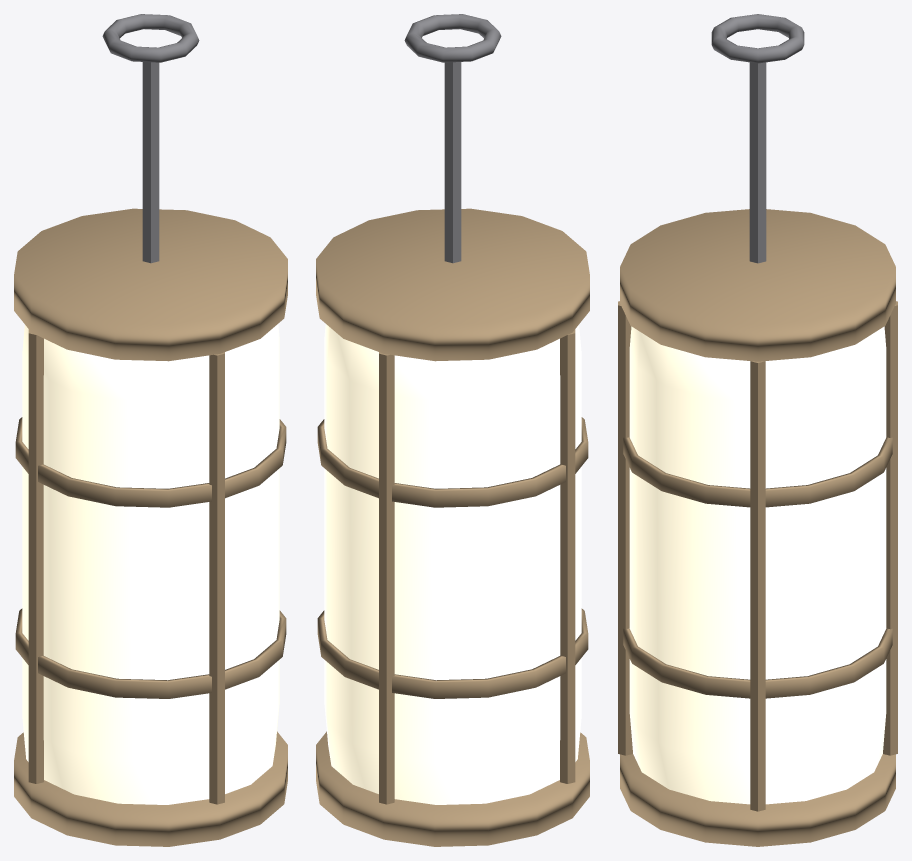
The model's file is korean-hanok-village-and-street-hanging-paper-lantern-539f8e2b__38069.glb.
3 views of the same model, side by side, from view 1: azimuth 30°, elevation 25°; view 2: azimuth 150°, elevation 25°; view 3: azimuth 270°, elevation 25° (orthographic).
Visible parts, largest first — view 1: lantern/paper, lantern/wood, hanging-paper-lantern; view 2: lantern/paper, lantern/wood, hanging-paper-lantern; view 3: lantern/paper, lantern/wood, hanging-paper-lantern.
Part boxes in pixels (box(x1,y1,x2,y2)): lantern/paper: box(22, 324, 279, 804); lantern/wood: box(14, 208, 287, 846); hanging-paper-lantern: box(102, 14, 199, 263); lantern/paper: box(324, 324, 581, 804); lantern/wood: box(316, 208, 589, 846); hanging-paper-lantern: box(404, 14, 501, 263); lantern/paper: box(629, 326, 886, 804); lantern/wood: box(618, 209, 897, 846); hanging-paper-lantern: box(711, 14, 804, 263).
Bounding box in the file's own units: 0.348 × 1.09 × 0.3451.
